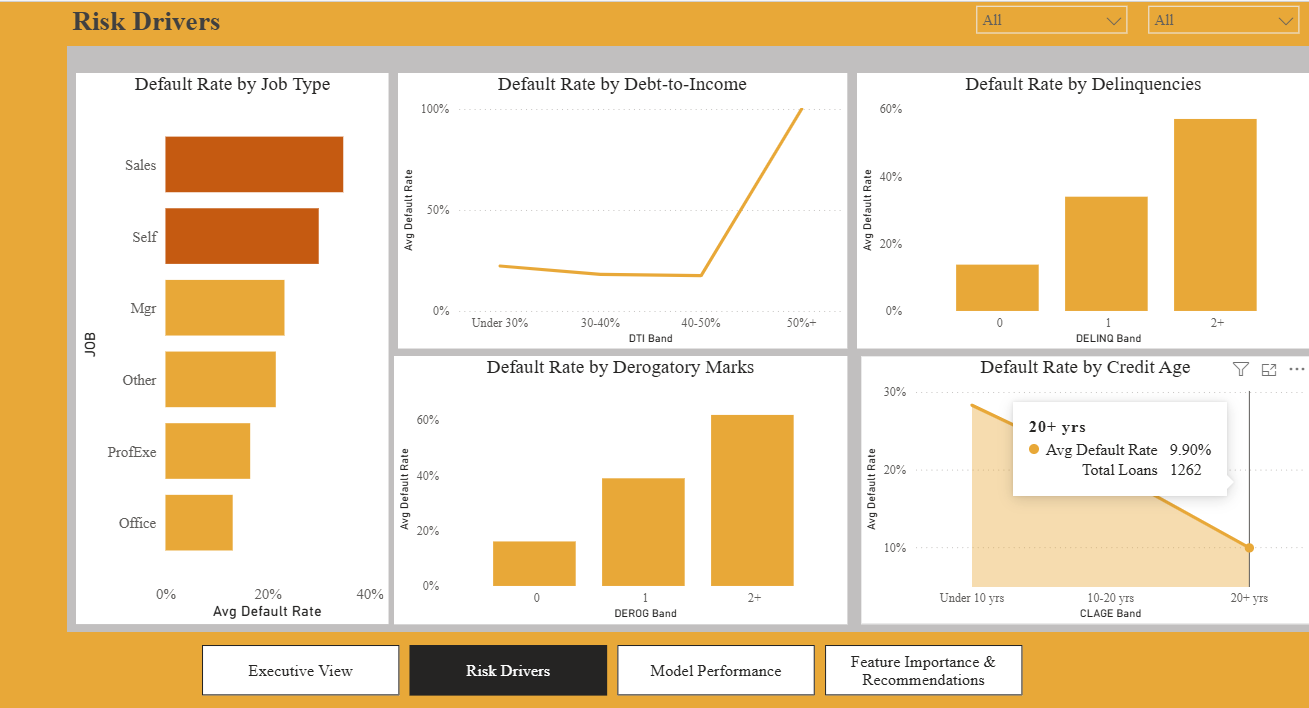

This screenshot's page, from the dashboard's own definition file:
{"tool":"powerbi","page":{"name":"Risk Drivers","canvas":[1280,720],"ordinal":1},"visuals":[{"type":"shape","box":[0,0,1280,74.9],"z":0},{"type":"shape","box":[0,74.9,71,644.9],"z":1000},{"type":"shape","box":[0,644.9,1280,74.9],"z":2000},{"type":"textbox","box":[71,30.2,201.3,45.7],"z":3000},{"type":"slicer","fields":{"Values":["hmeq_clean.REASON"]},"box":[1112.7,8.8,167.3,57.4],"z":4000},{"type":"barChart","title":"Default Rate by Job Type","fields":{"Category":["hmeq_clean.JOB"],"Y":["Measures_.Avg Default Rate"]},"box":[79.8,101.2,304.4,535.9],"z":5000},{"type":"lineChart","title":"Default Rate by Debt-to-Income","fields":{"Category":["hmeq_clean.DTI Band"],"Y":["Measures_.Avg Default Rate"]},"box":[392.9,101.2,436.7,268.4],"z":6000},{"type":"areaChart","title":"Default Rate by Credit Age","fields":{"Category":["hmeq_clean.CLAGE Band"],"Y":["Measures_.Avg Default Rate"]},"box":[843.3,376.4,436.7,260.7],"z":7000},{"type":"clusteredColumnChart","title":"Default Rate by Delinquencies","fields":{"Y":["Measures_.Avg Default Rate"],"Category":["hmeq_clean.DELINQ Band"]},"box":[839.4,101.2,440.6,268.4],"z":8000},{"type":"clusteredColumnChart","title":"Default Rate by Derogatory Marks","fields":{"Y":["Measures_.Avg Default Rate"],"Category":["hmeq_clean.DEROG Band"]},"box":[389.1,376.4,440.6,260.7],"z":9000},{"type":"pageNavigator","box":[202.3,657.5,800.5,49.6],"z":10000},{"type":"slicer","fields":{"Values":["hmeq_clean.DTI Band"]},"box":[945.4,8.8,167.3,57.4],"z":11000}]}

Visuals, with their boxes on the page's 1280x720 design canvas (x1, y1, x2, y2). These are canvas units, not pixel positions in the 1309x708 screenshot, which may show the page scaled, cropped or inside an application window:
shape: {"left": 0, "top": 0, "right": 1280, "bottom": 75}
shape: {"left": 0, "top": 75, "right": 71, "bottom": 720}
shape: {"left": 0, "top": 645, "right": 1280, "bottom": 720}
textbox: {"left": 71, "top": 30, "right": 272, "bottom": 76}
slicer - hmeq_clean.REASON: {"left": 1113, "top": 9, "right": 1280, "bottom": 66}
"Default Rate by Job Type" barChart: {"left": 80, "top": 101, "right": 384, "bottom": 637}
"Default Rate by Debt-to-Income" lineChart: {"left": 393, "top": 101, "right": 830, "bottom": 370}
"Default Rate by Credit Age" areaChart: {"left": 843, "top": 376, "right": 1280, "bottom": 637}
"Default Rate by Delinquencies" clusteredColumnChart: {"left": 839, "top": 101, "right": 1280, "bottom": 370}
"Default Rate by Derogatory Marks" clusteredColumnChart: {"left": 389, "top": 376, "right": 830, "bottom": 637}
pageNavigator: {"left": 202, "top": 658, "right": 1003, "bottom": 707}
slicer - hmeq_clean.DTI Band: {"left": 945, "top": 9, "right": 1113, "bottom": 66}
